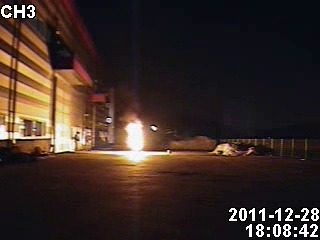fire: (118, 118, 152, 157)
